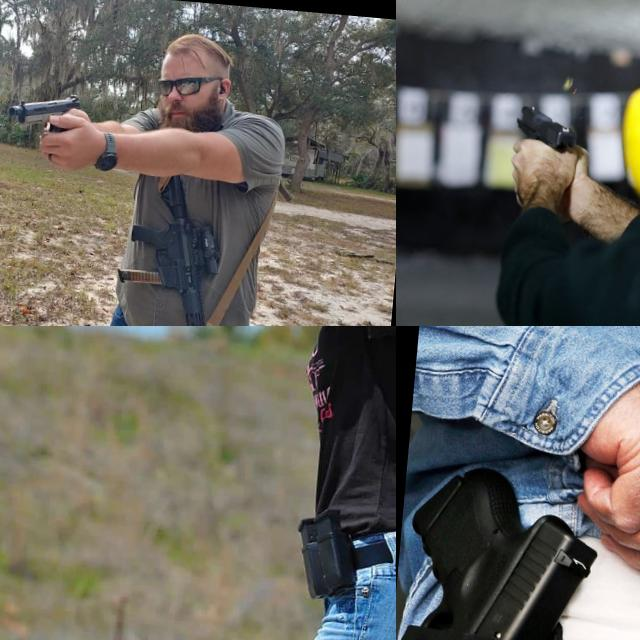handgun: (396, 457, 606, 640), (4, 87, 85, 156), (510, 102, 582, 166), (0, 326, 87, 360)
